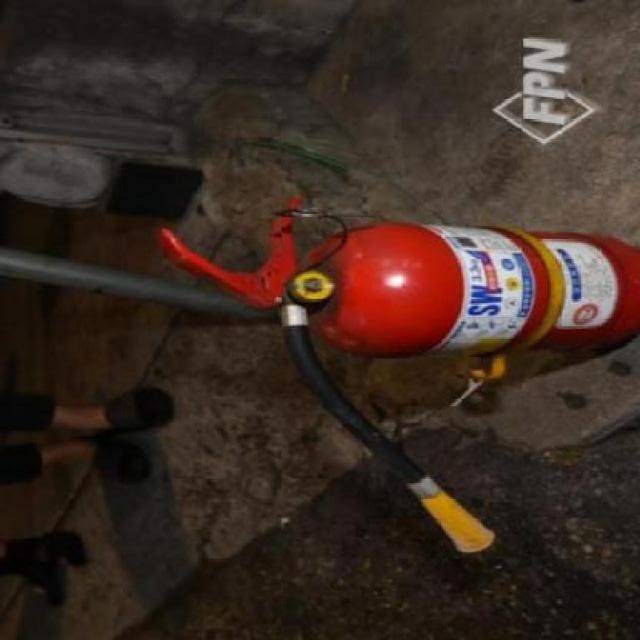fire extinguisher: (155, 196, 640, 553)
